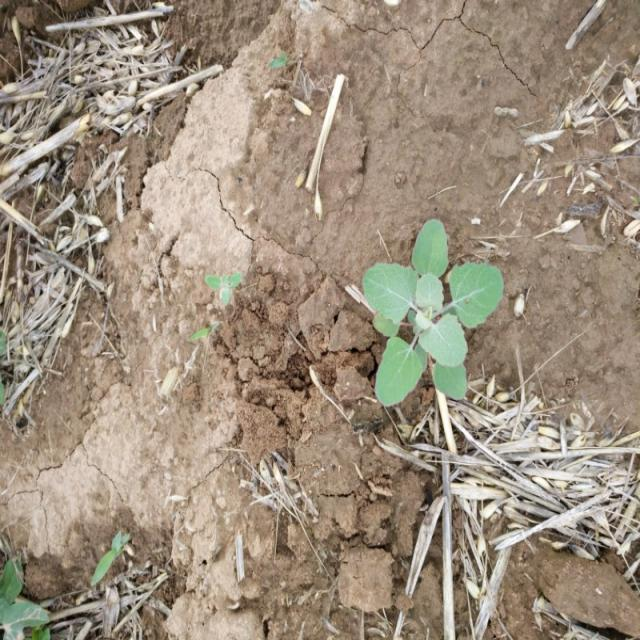goosefoots: (319, 216, 531, 404)
